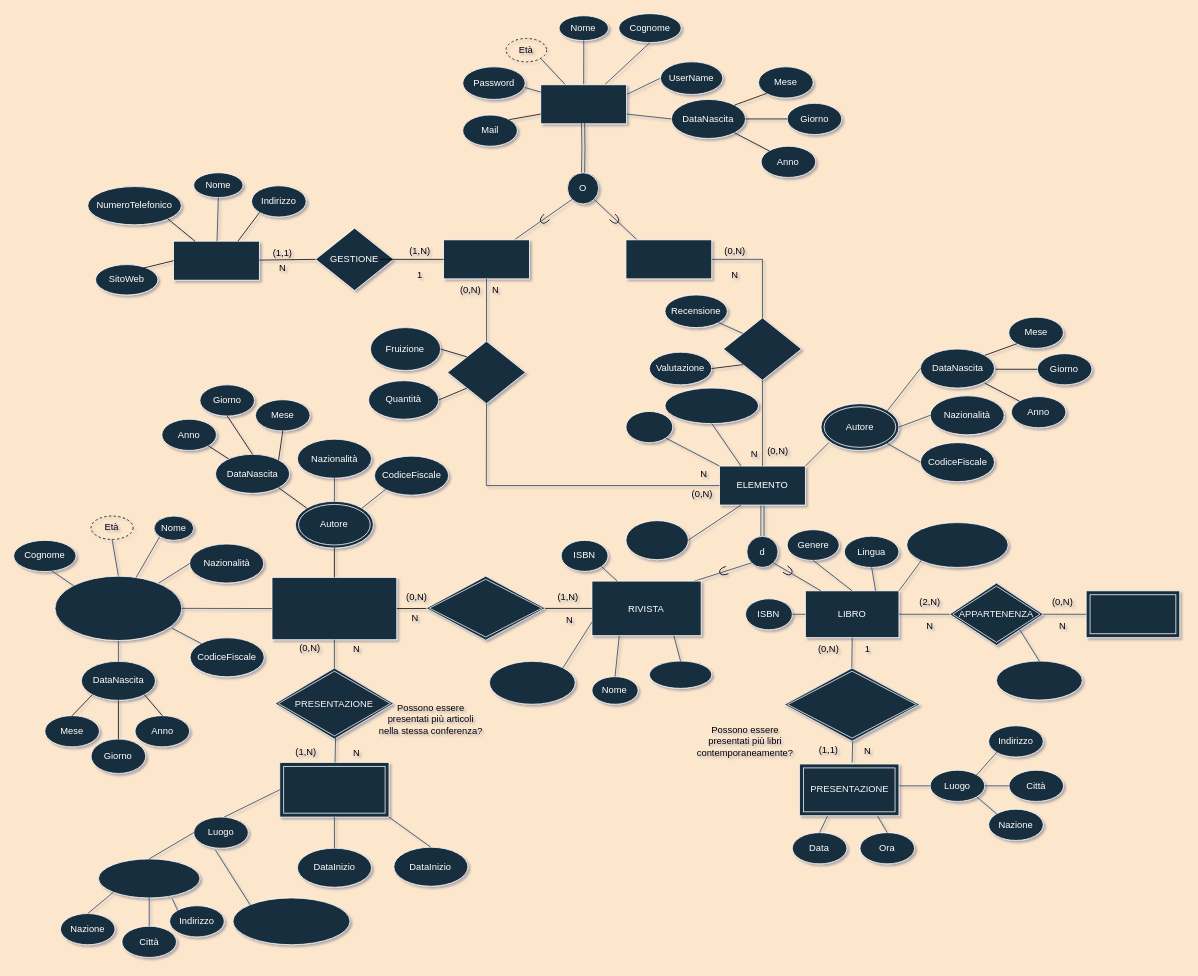
Image size: 1198x976. Some labels were removed from this diagram. The shapes that lost their labels are listed below. From the top down, each one's centre as x and y in pixels, then its label:
[583,104]: UTENTE
[216,260]: LIBRERIA
[486,259]: VENDITORE
[668,259]: STANDARD
[762,348]: PREFERITI
[486,372]: POSSESSO
[711,405]: AnnoPubblicazione
[649,427]: Titolo
[656,540]: Editore
[957,544]: DataPubblicazione
[118,608]: ResponsabilePubblicazione
[334,608]: ARTICOLO_SCIENTIFICO
[485,607]: COMPOSIZIONE
[1132,614]: COLLANA
[532,682]: AnnoFondazione
[680,674]: Argomento
[1039,680]: Caratteristica
[852,704]: PARTECIPAZIONE
[334,789]: CONFERENZA
[149,878]: LuogoConferenza
[291,921]: StrutturaOrganizzatrice
